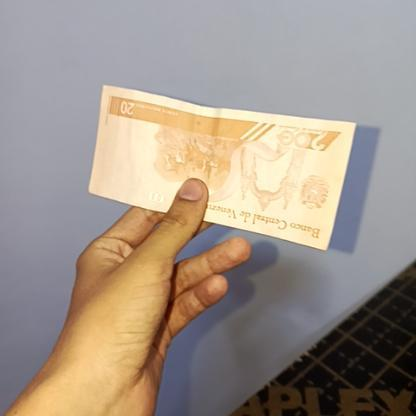twenty-back-vef: (86, 83, 360, 249)
